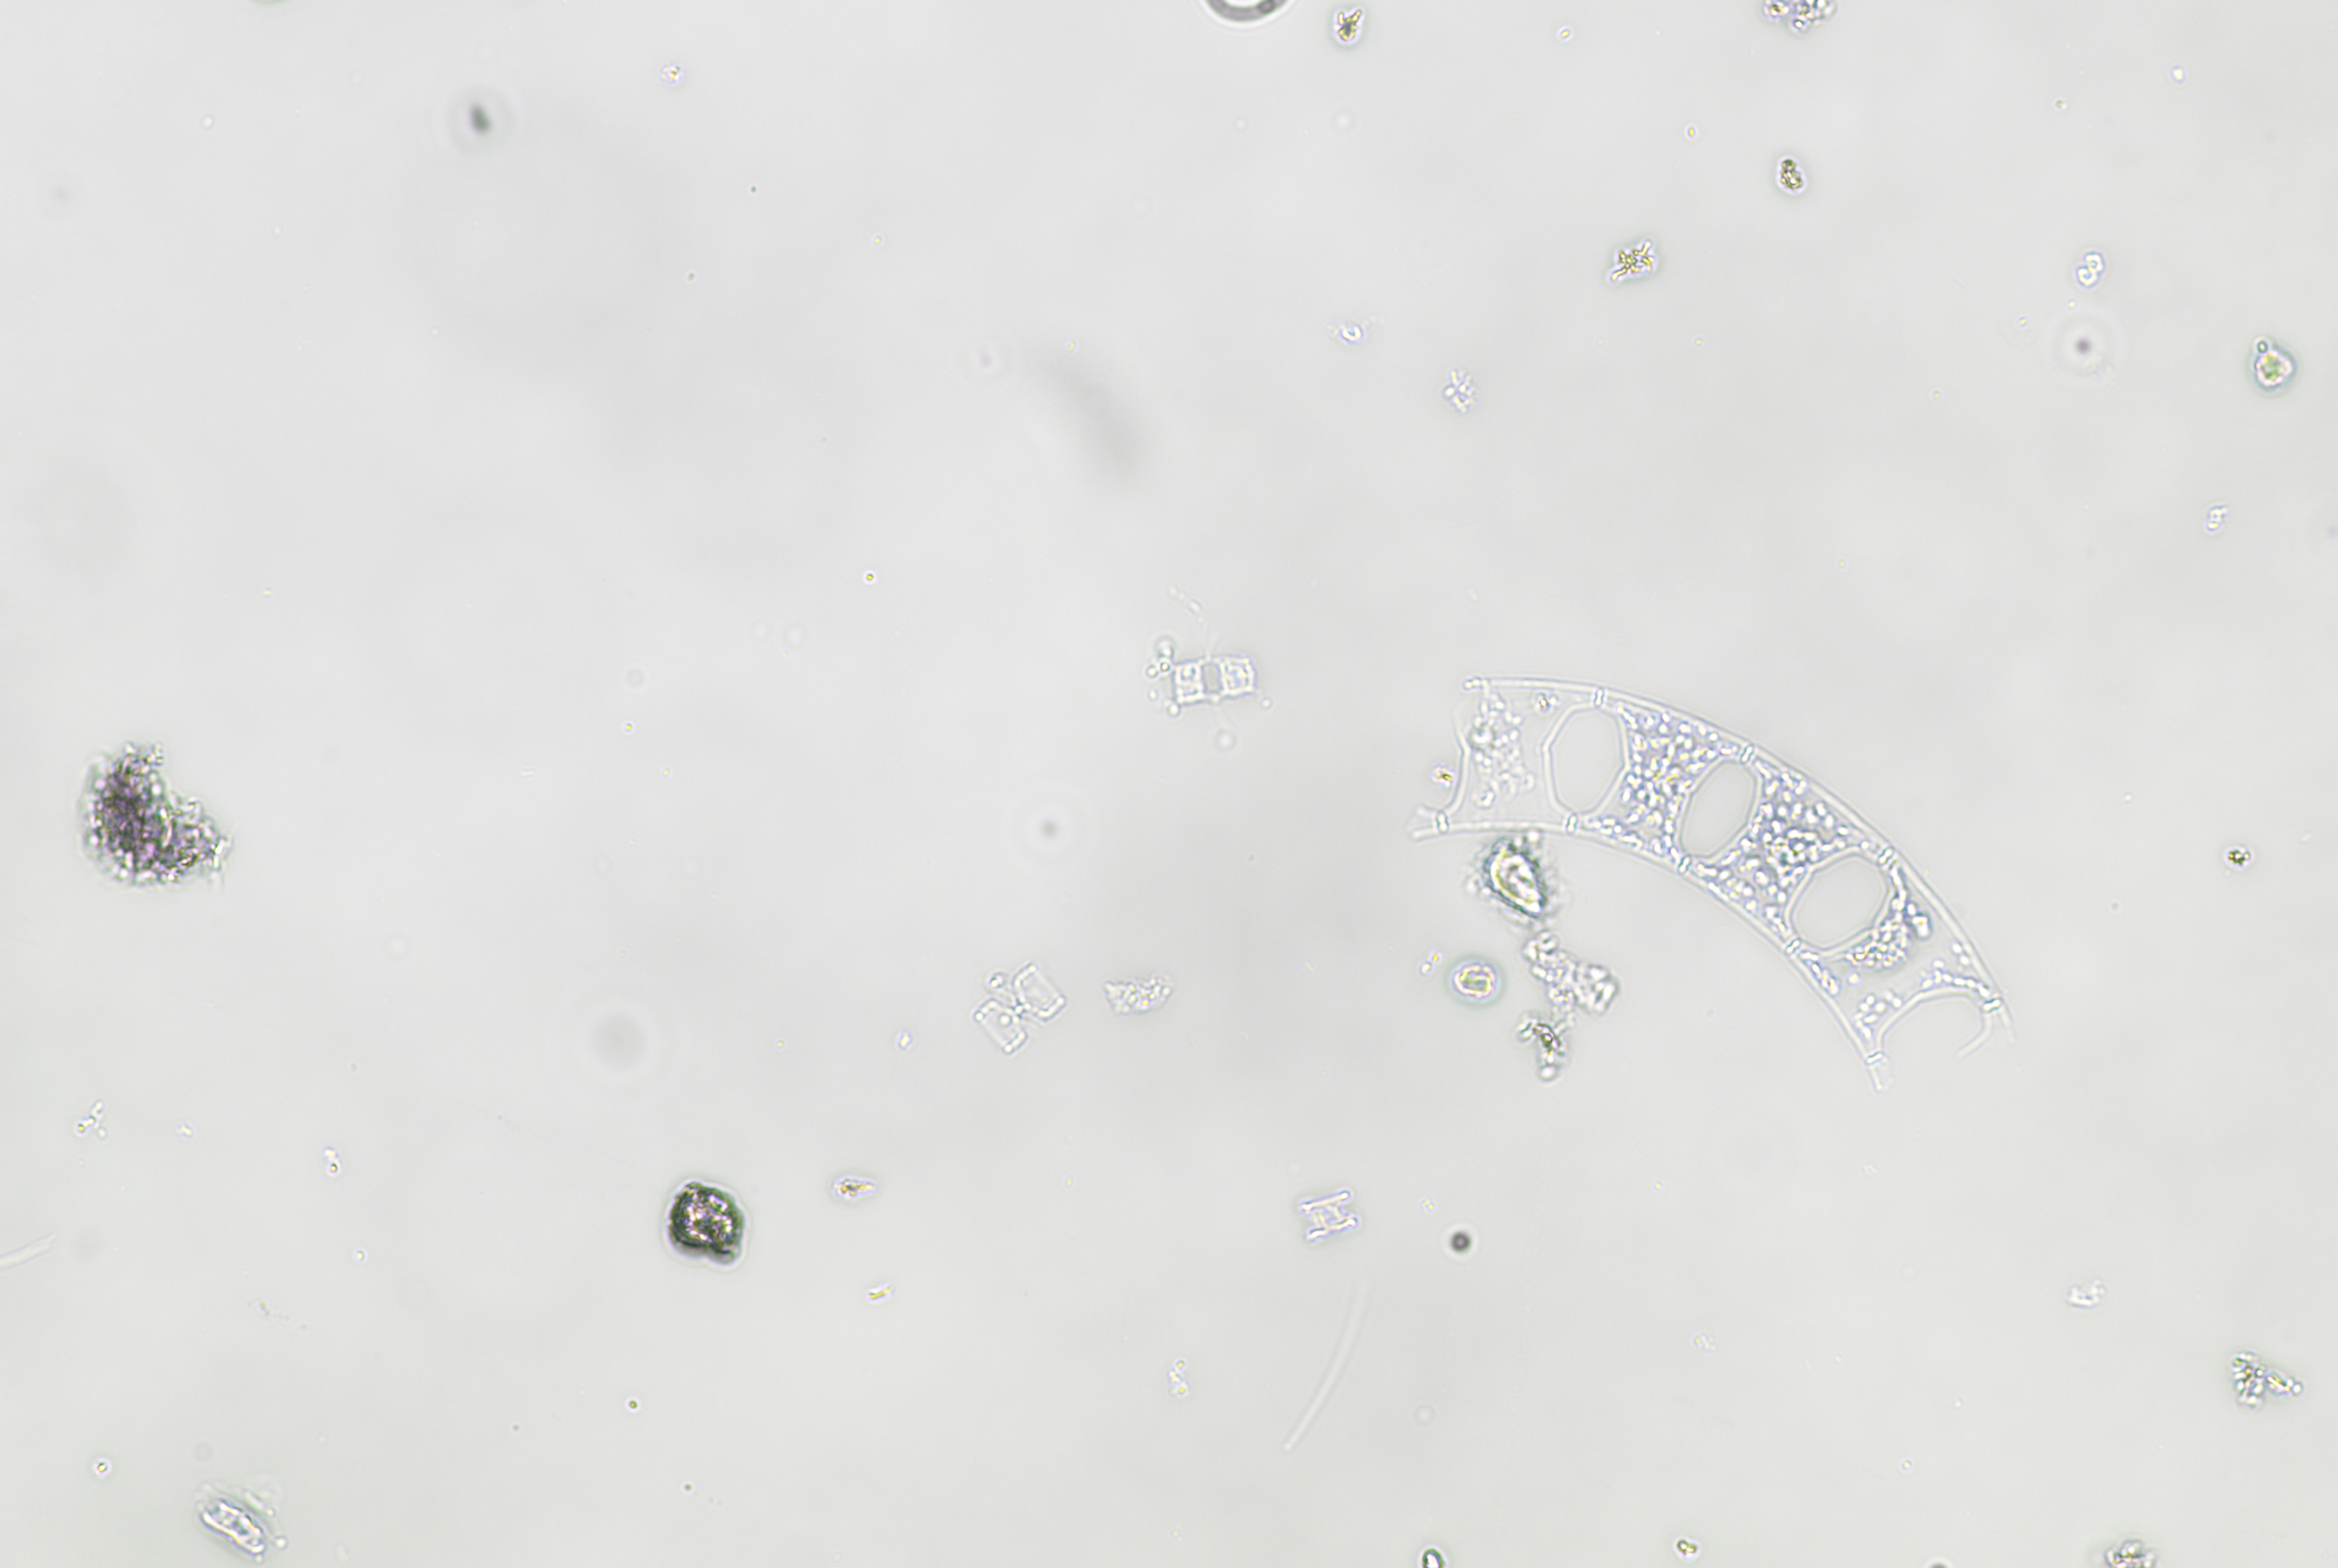eucampia: (1404, 649, 2037, 1090)
